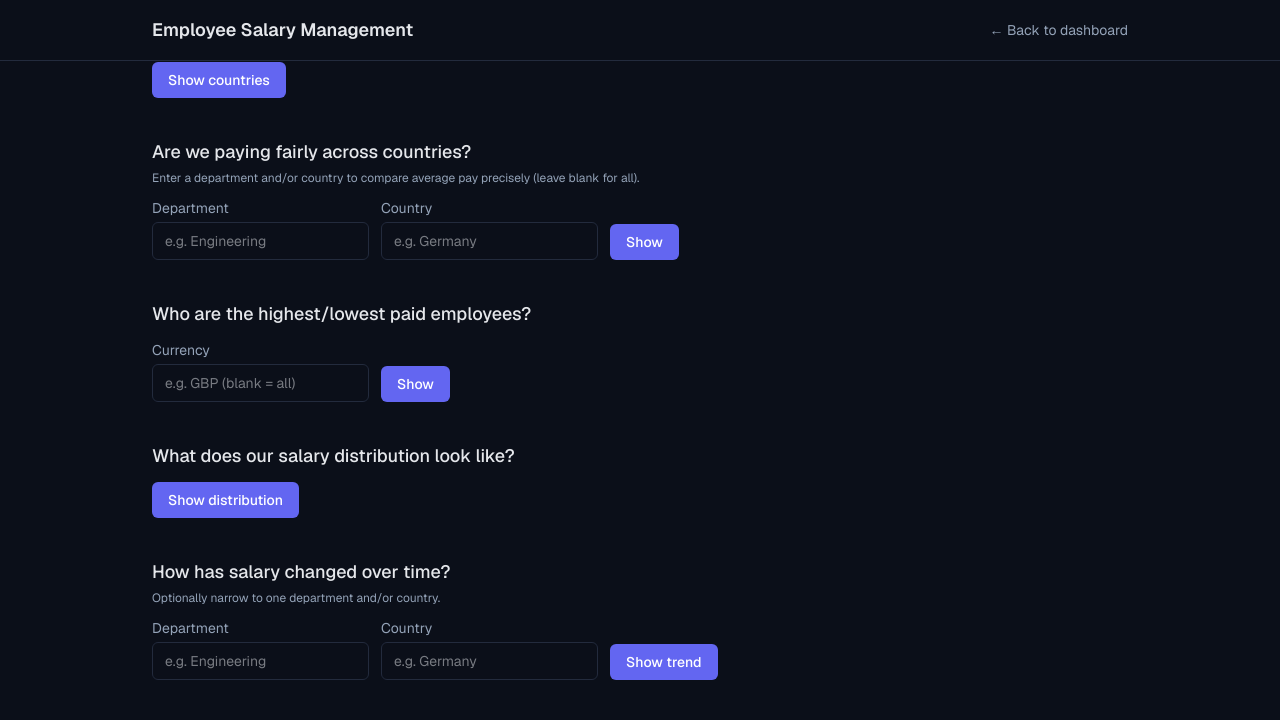
Test case: ReportsPage › fetches the salary distribution when requested
The image size is (1280, 720).
(page scrolled)
Step 1. Click the button "Show distribution" → click(225, 500), box [152,482,299,518]
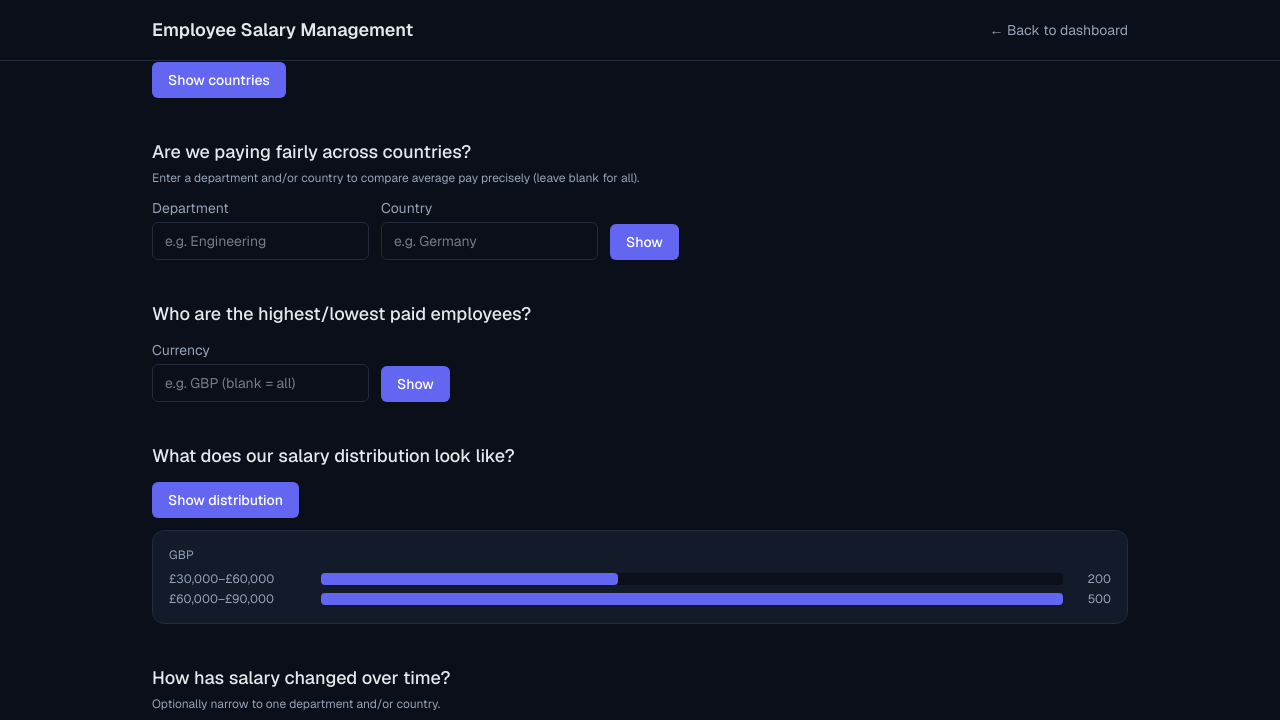
Now the text "GBP" is shown, box [169,547,194,563]
